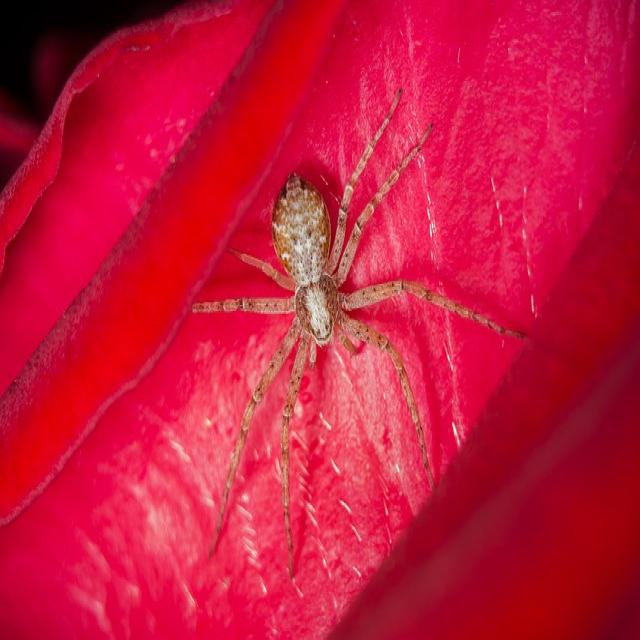spyder: (192, 92, 521, 574)
